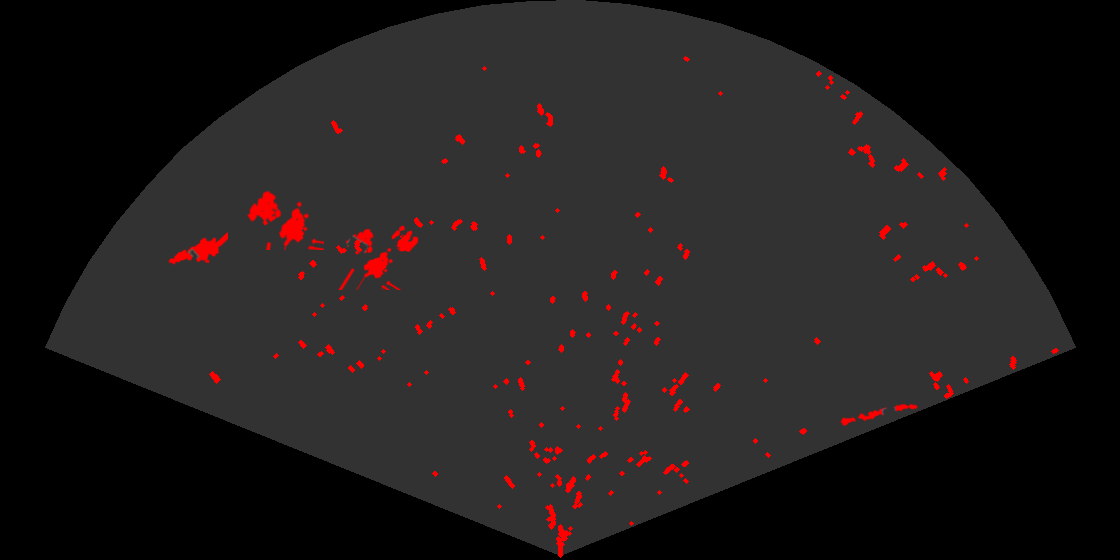ball: (390, 224, 420, 254)
cage: (245, 189, 324, 250), (337, 227, 403, 290)
chain: (837, 402, 920, 428)
frogman: (167, 231, 228, 266)
